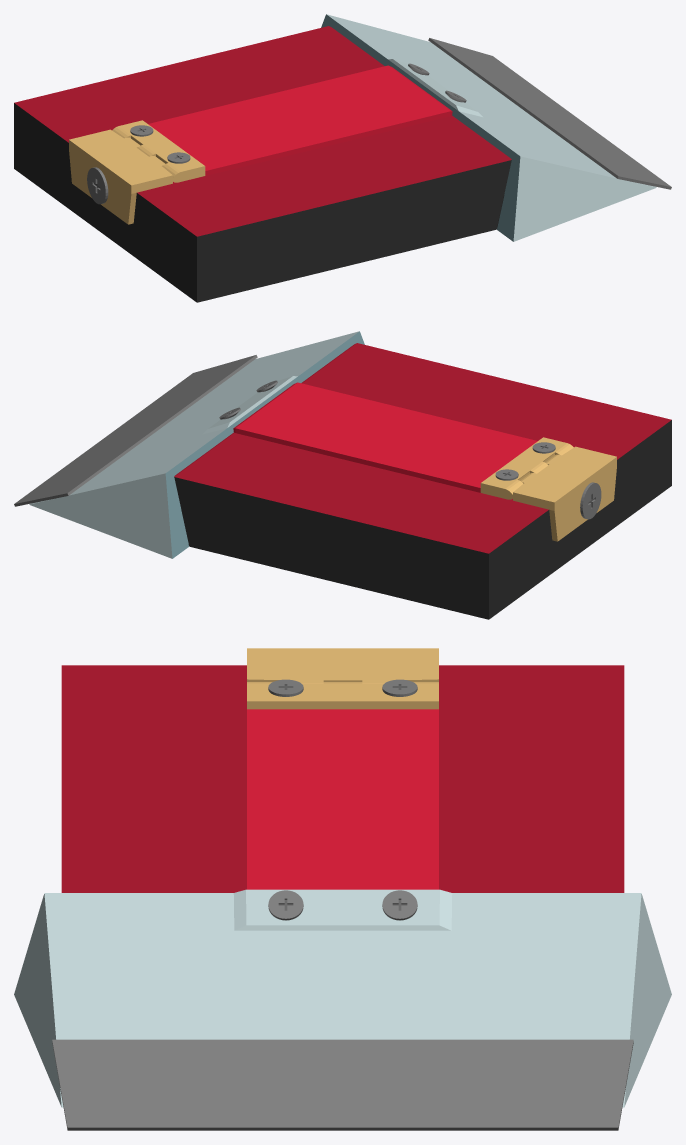
Rendered from Lifter.fbx.
The picture shows the model from 3 angles, top to bottom: view 1: azimuth 30°, elevation 25°; view 2: azimuth 150°, elevation 25°; view 3: azimuth 270°, elevation 25°; orthographic projection. The views are drawn at different scales.
Parts seen in each view (by area): view 1: lifter_body, lifter_weapon; view 2: lifter_body, lifter_weapon; view 3: lifter_weapon, lifter_body.
Part boxes in pixels (box(x1,y1,x2,y2)): lifter_body: box(14, 26, 511, 302); lifter_weapon: box(112, 14, 671, 241); lifter_body: box(174, 343, 671, 619); lifter_weapon: box(14, 331, 573, 558); lifter_weapon: box(14, 679, 671, 1130); lifter_body: box(61, 648, 624, 892).
Size of the model in its own units: 3.07 by 0.5018 by 2.34.
